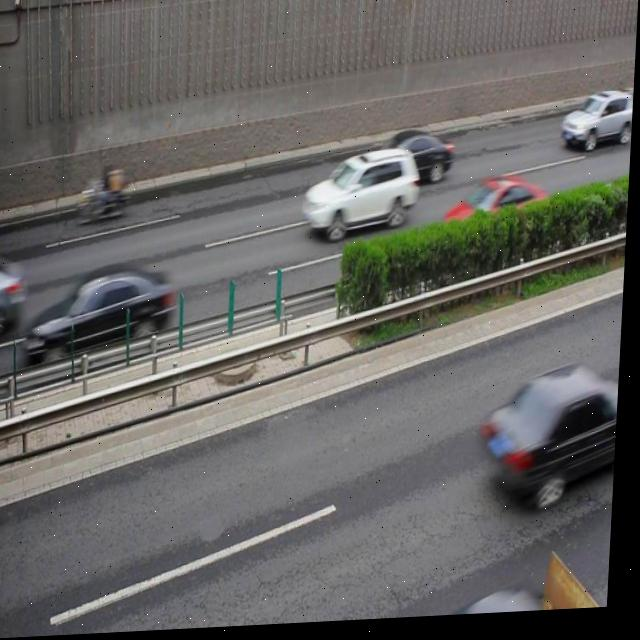car: (484, 367, 624, 509), (30, 265, 179, 366), (302, 154, 421, 242), (445, 177, 549, 249), (372, 134, 456, 193), (563, 97, 635, 158), (441, 589, 567, 621), (0, 248, 25, 337)
